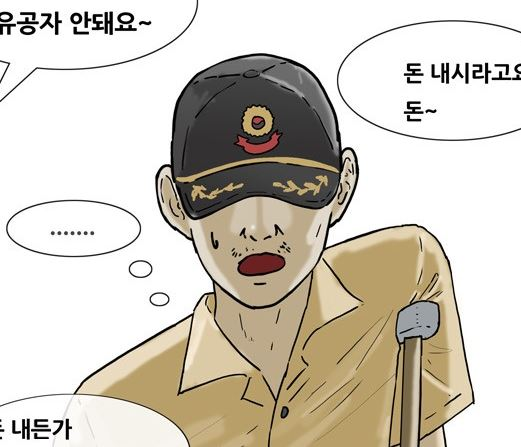hat: (168, 52, 343, 218)
